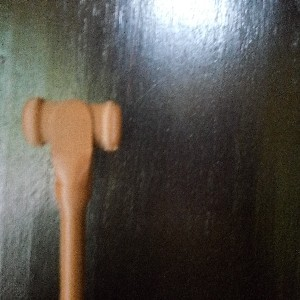palu: (22, 96, 122, 300)
